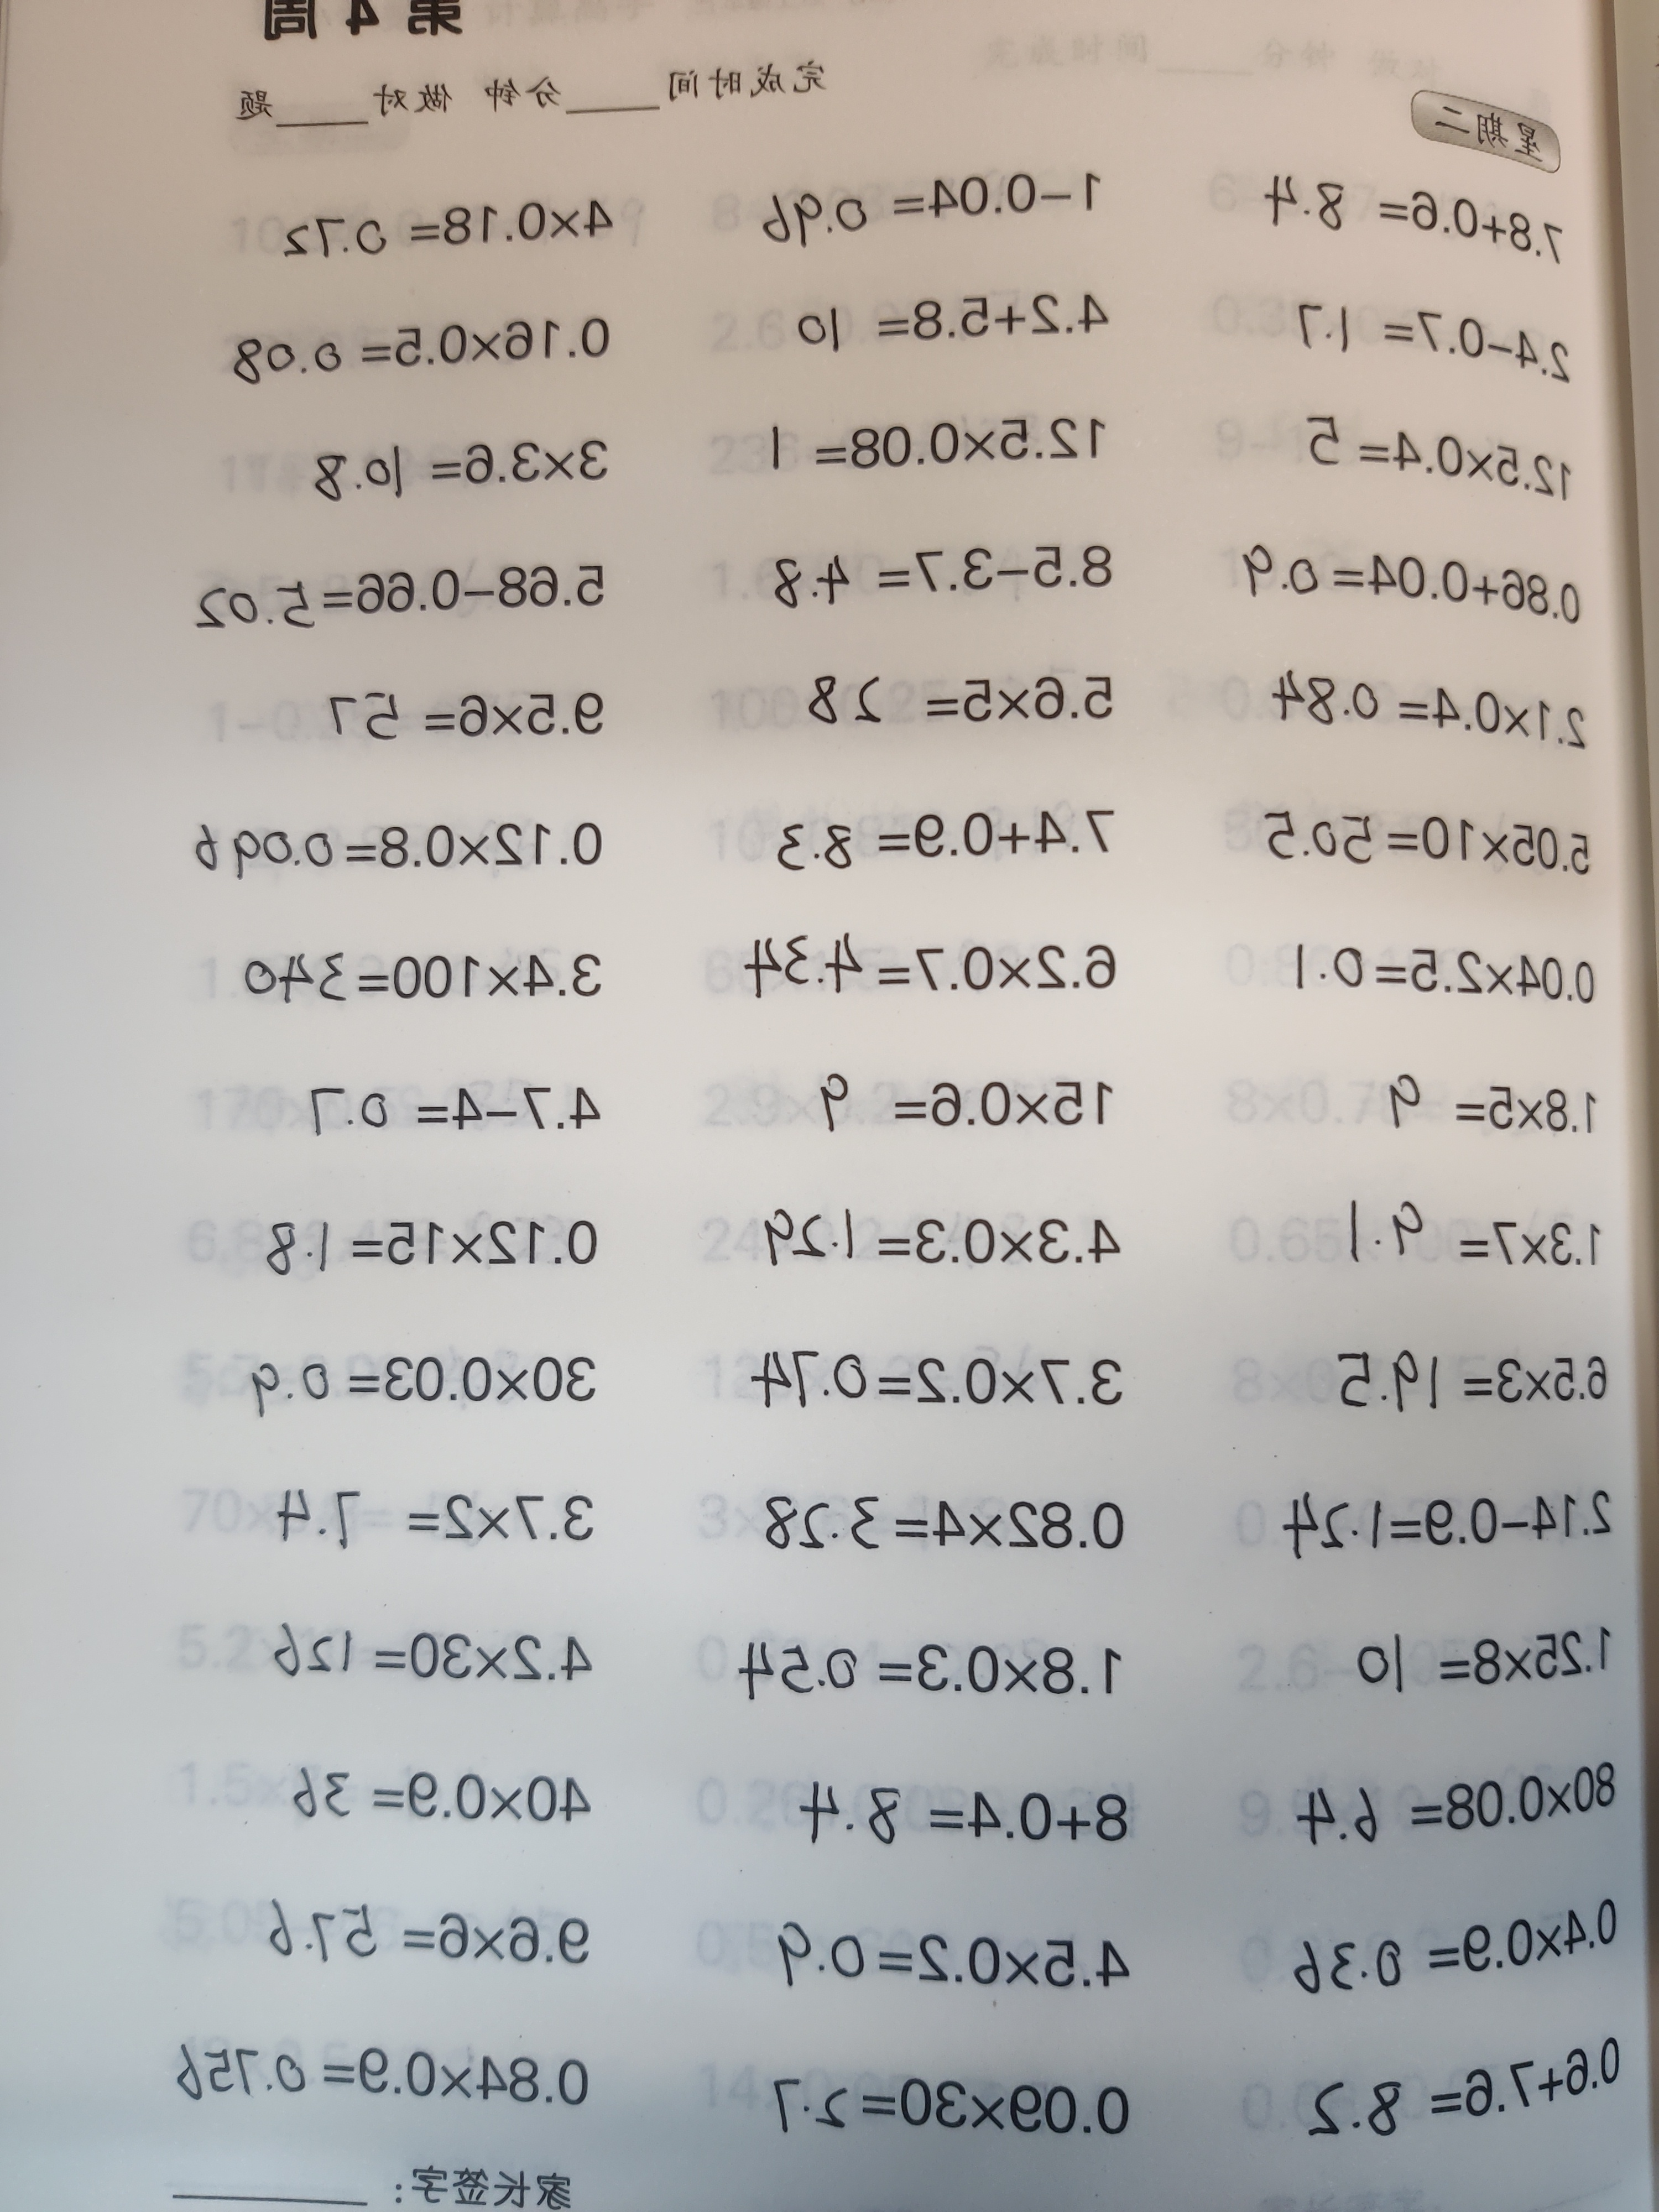equation: (178, 545, 622, 653), (713, 1618, 1141, 1724), (178, 798, 619, 899), (274, 164, 636, 286), (739, 1325, 1143, 1433), (162, 2029, 599, 2125), (1288, 1888, 1624, 2012), (756, 1183, 1143, 1287), (1284, 2027, 1628, 2142), (756, 1474, 1150, 1573), (214, 308, 622, 404), (263, 1061, 627, 1167), (762, 146, 1103, 260), (1297, 1752, 1631, 1865), (725, 923, 1155, 1010), (770, 1907, 1157, 2003), (756, 399, 1110, 503), (1255, 165, 1584, 277), (232, 925, 622, 1019), (758, 2060, 1143, 2155), (227, 1332, 603, 1428), (254, 1193, 617, 1291), (1270, 402, 1591, 512), (788, 646, 1138, 742), (767, 531, 1126, 624), (1312, 1334, 1622, 1440), (1283, 1472, 1615, 1569), (1237, 538, 1607, 625), (786, 273, 1126, 368), (767, 796, 1131, 883), (788, 1777, 1143, 1865), (1262, 665, 1600, 758), (800, 1055, 1131, 1150), (275, 1750, 605, 1844), (244, 1892, 599, 1979), (1284, 928, 1607, 1024), (305, 672, 619, 770), (1326, 1183, 1617, 1287), (1248, 801, 1605, 885), (260, 1474, 624, 1555), (244, 1613, 599, 1696), (1333, 1611, 1619, 1714), (305, 428, 615, 521), (1270, 298, 1584, 381), (1358, 1062, 1605, 1158)
